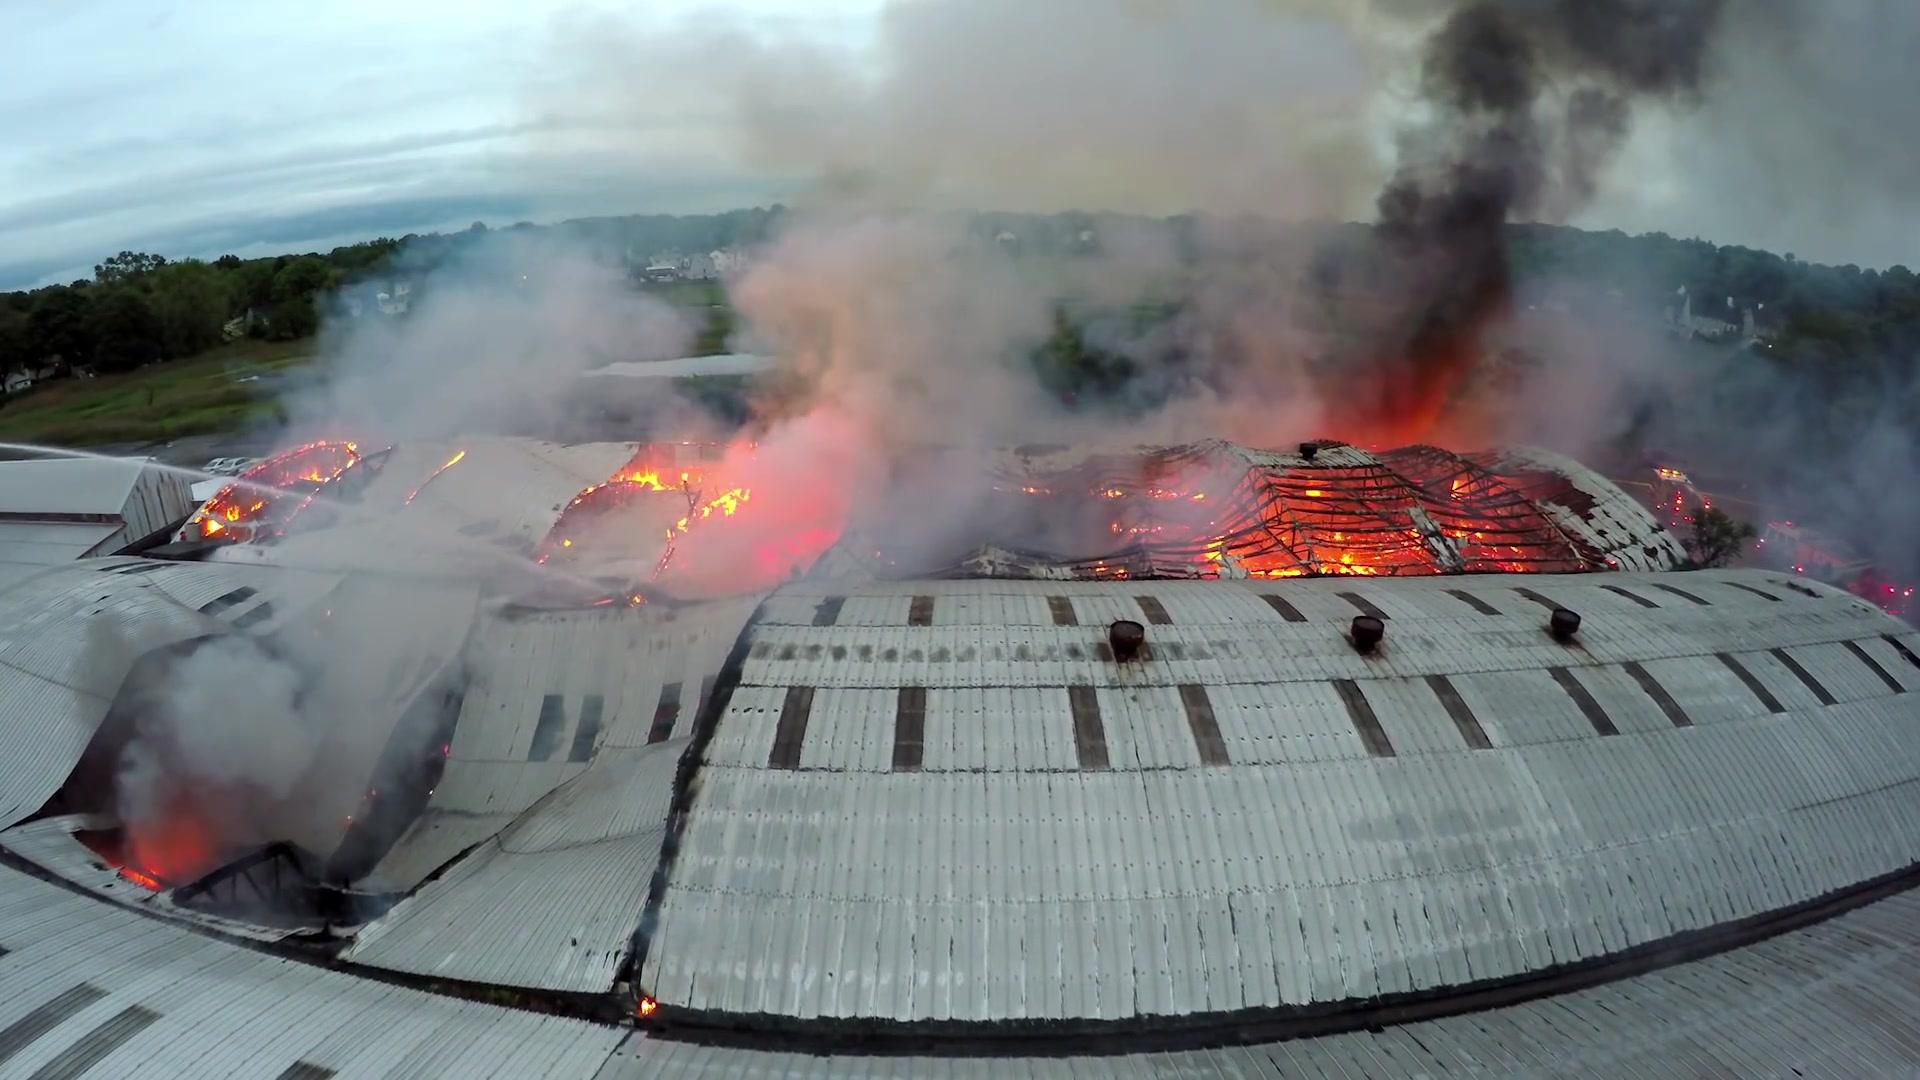smoke: (352, 265, 828, 732), (893, 3, 1298, 435), (1404, 0, 1585, 440)
